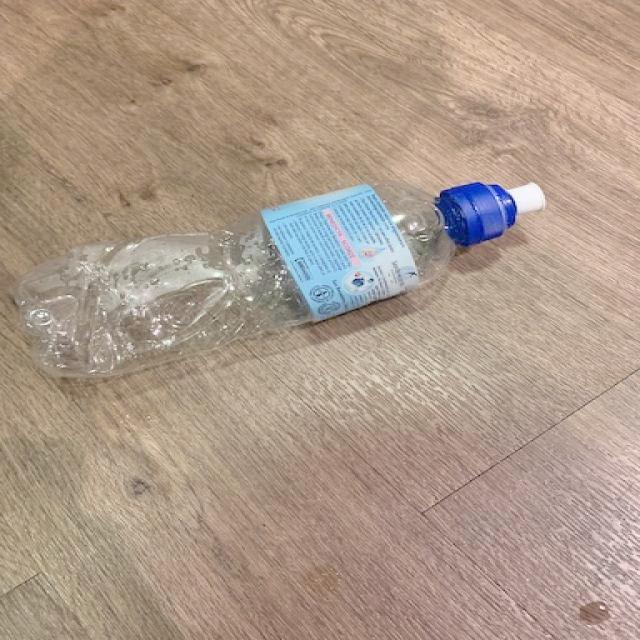bottle: (8, 181, 546, 378)
